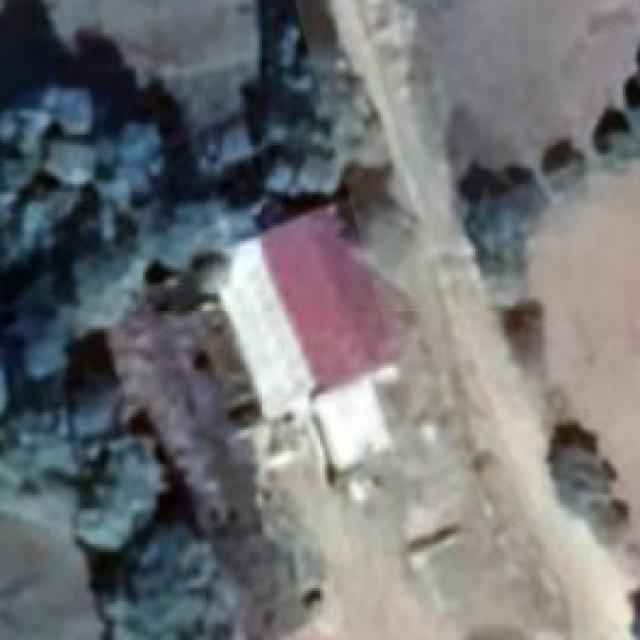Batiment: (262, 204, 406, 388)
